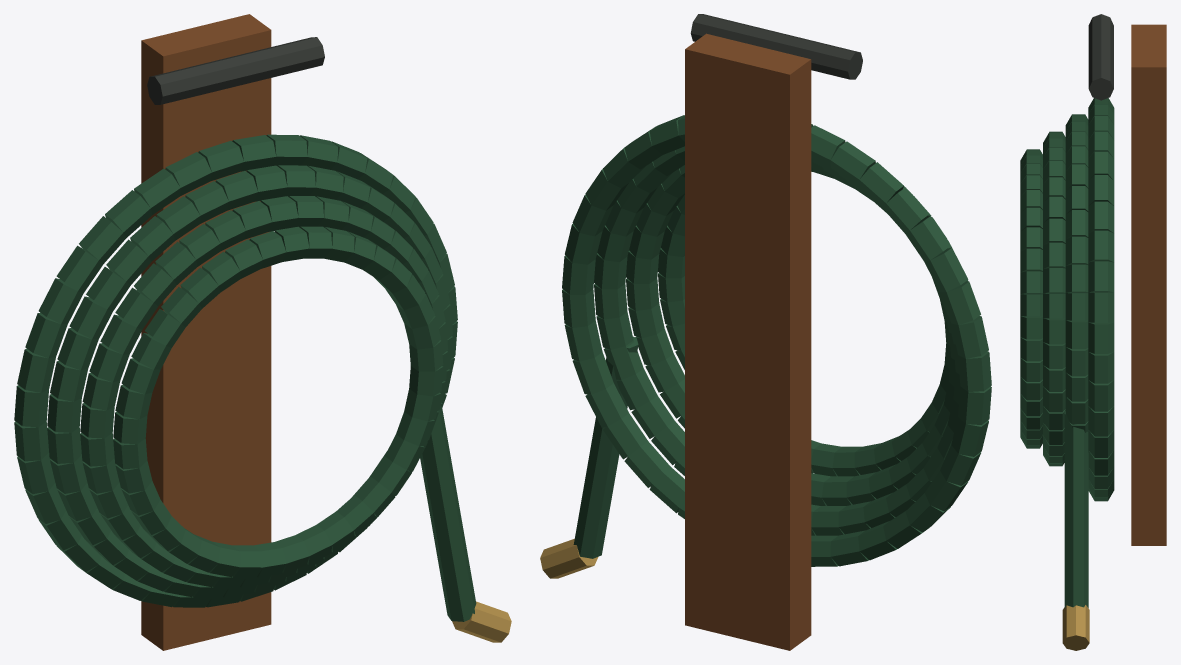
File: wall_hose_reel.glb
The picture shows the model from 3 angles, left to right: view 1: azimuth 30°, elevation 25°; view 2: azimuth 150°, elevation 25°; view 3: azimuth 270°, elevation 25°; orthographic projection. The views are drawn at different scales.
Visible parts, largest first — view 1: wall_hose_reel; view 2: wall_hose_reel; view 3: wall_hose_reel.
Boxes of the visible parts, left/top/right/bottom form: wall_hose_reel: left=14, top=14, right=511, bottom=650; wall_hose_reel: left=540, top=14, right=991, bottom=650; wall_hose_reel: left=1020, top=14, right=1166, bottom=650.
Size of the model in its own units: 0.8758 by 1.12 by 0.291.
